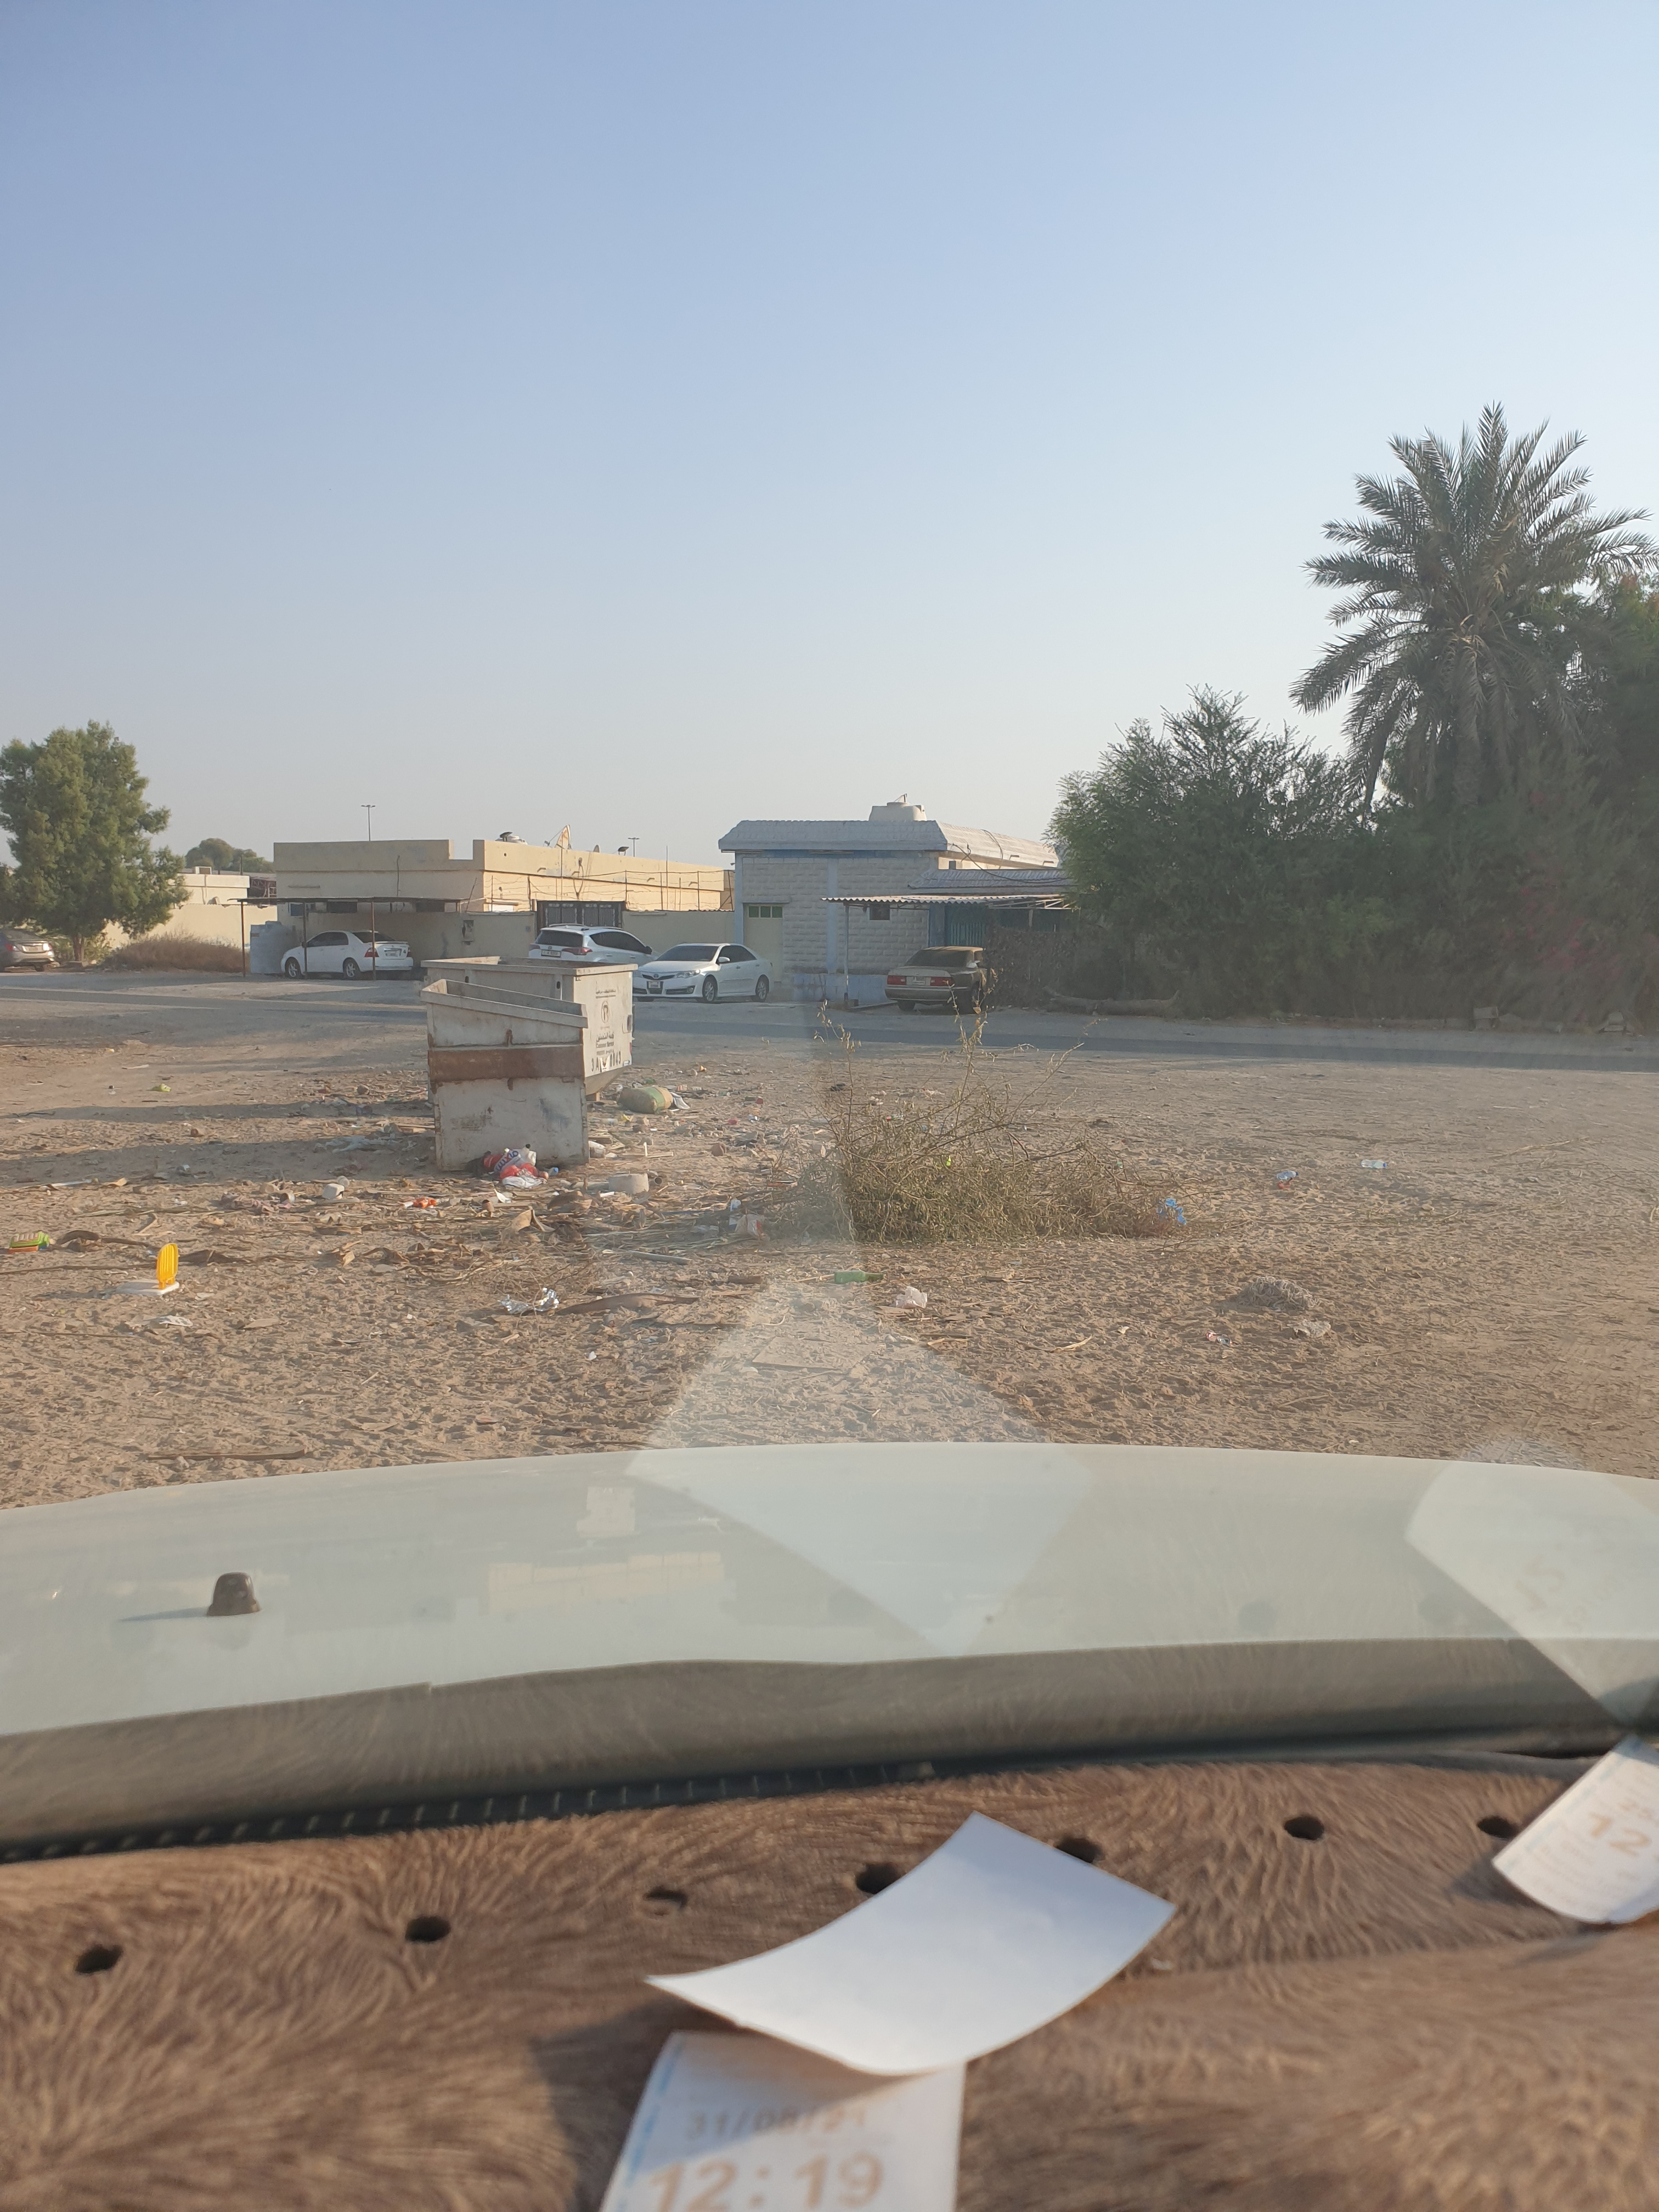fallen_trees: (727, 1069, 1323, 1270)
